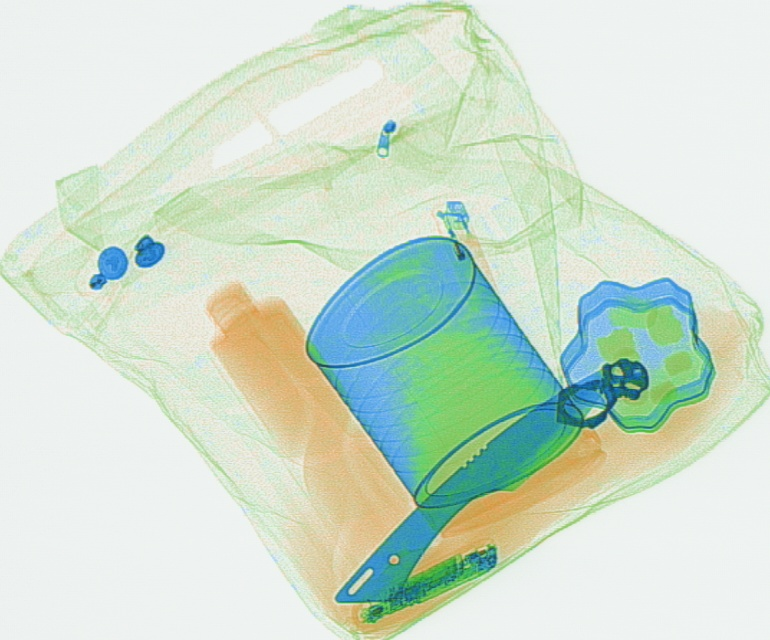knife: (332, 363, 620, 605)
lighter: (430, 196, 501, 312)
